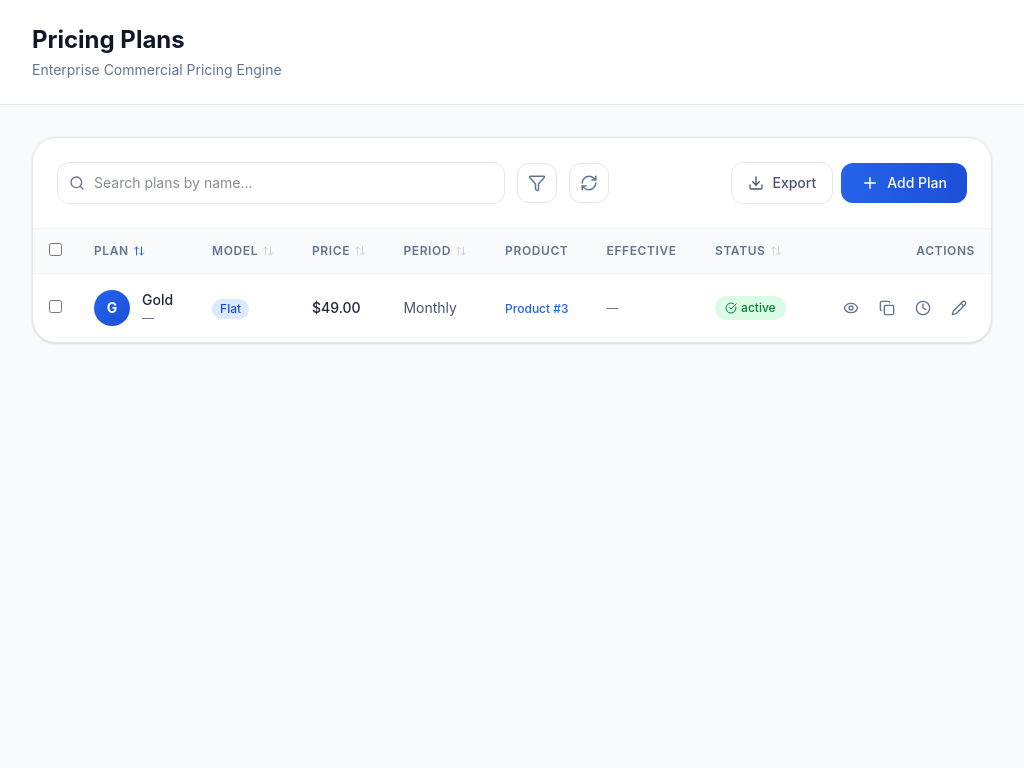
Test: Pricing Plans dialogs › Preview opens Pricing Preview and Close closes it
Expected: the text "Gold" is shown, [142, 290, 173, 310]
Click the button named "Preview pricing for Gold" at (851, 308), box [835, 292, 867, 324]
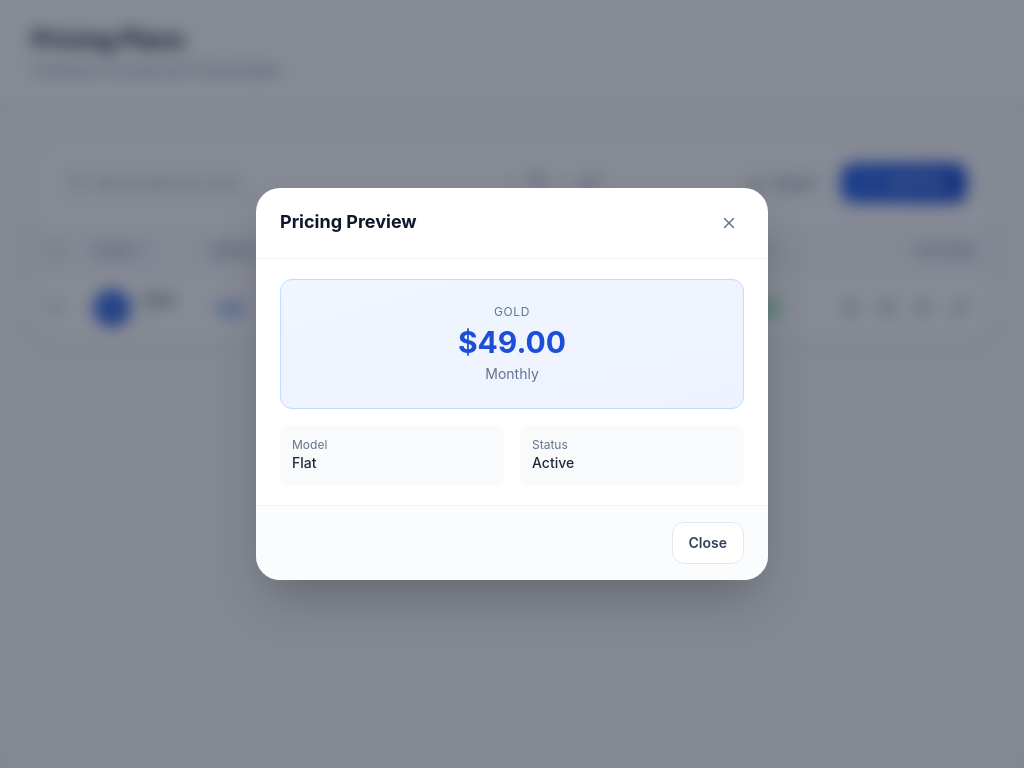
Expected: the text "Gold" is shown, [494, 304, 530, 319]
Click the button "Close" at (708, 543), box [672, 522, 744, 564]
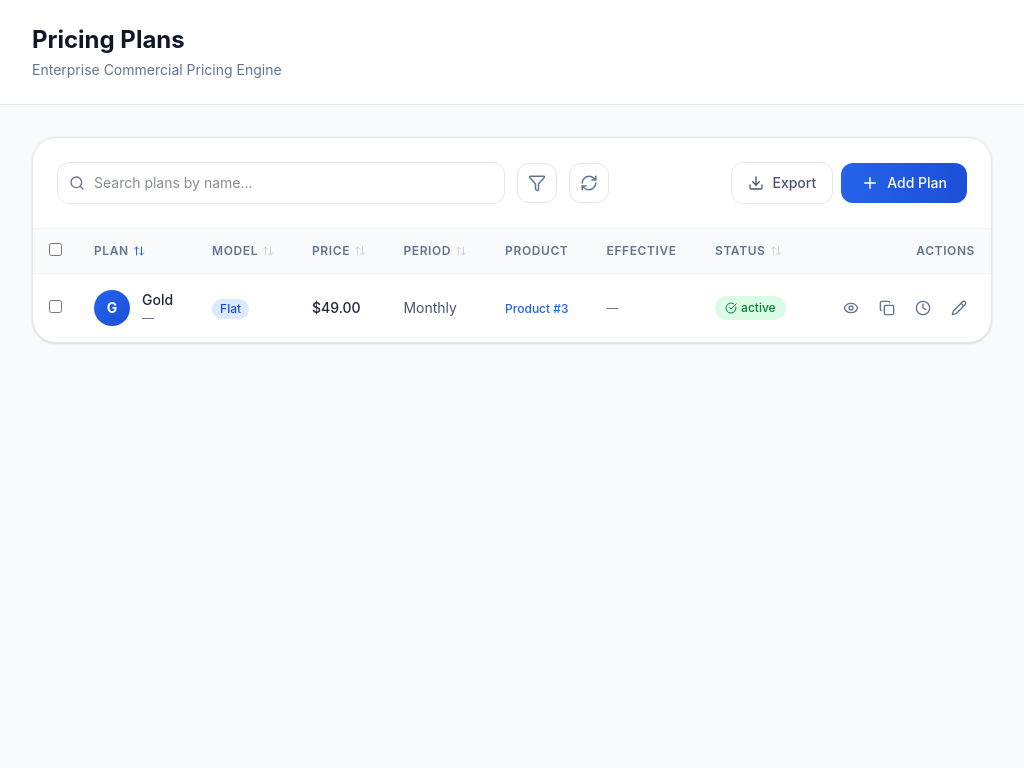
Expected: the dialog is gone
